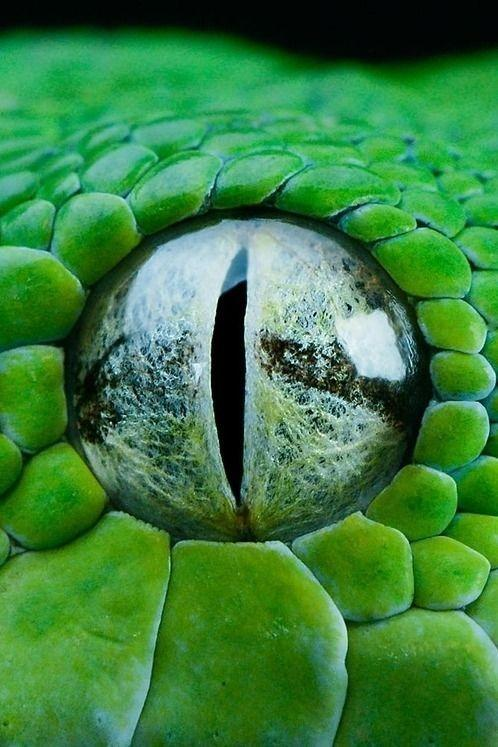non-dog: (1, 5, 498, 739)
